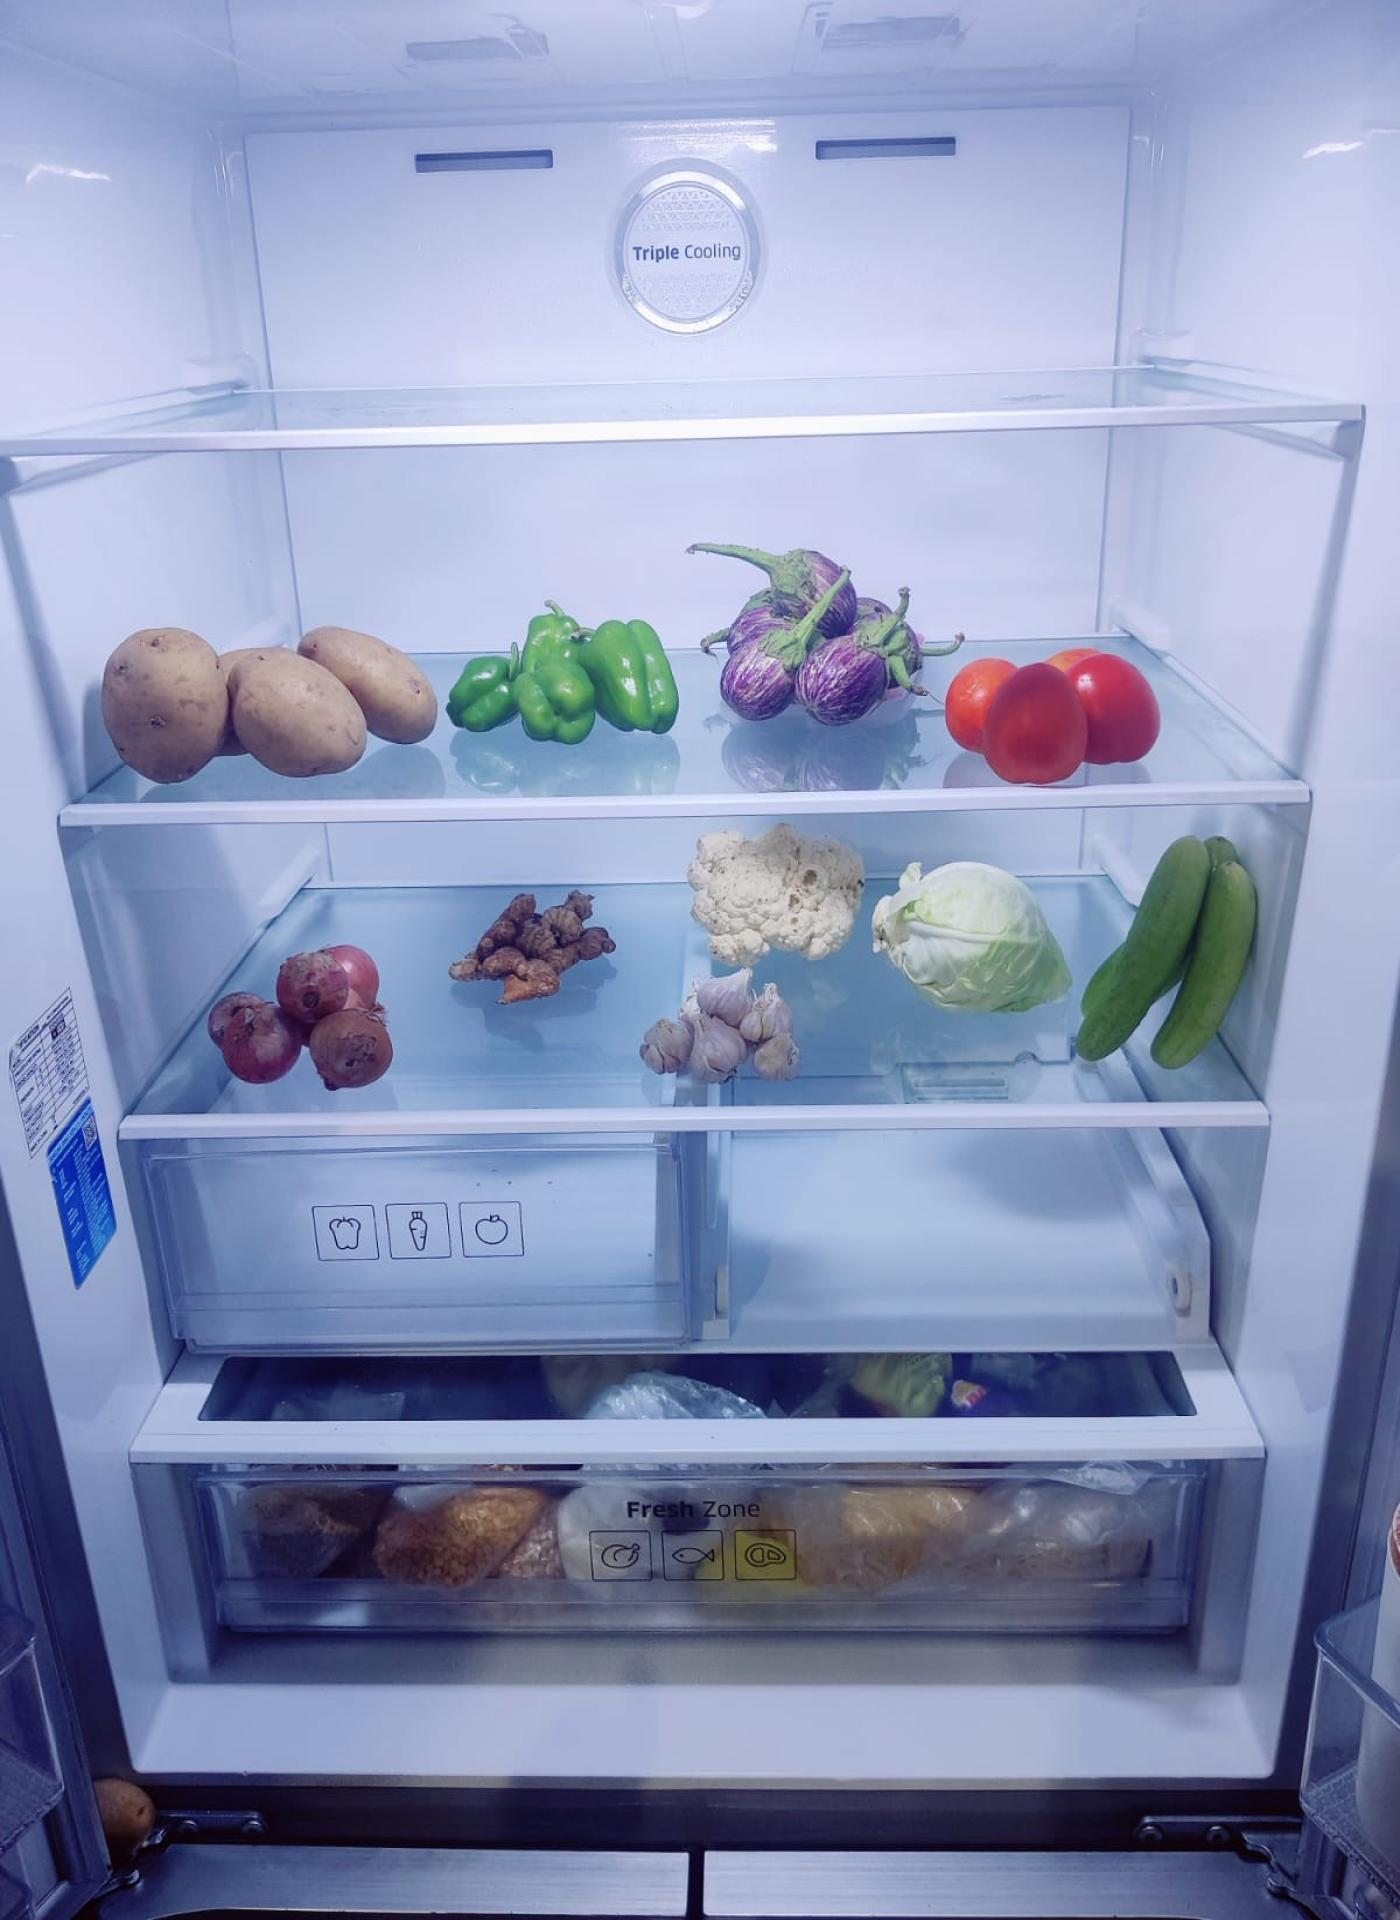brinjal: (701, 541, 927, 723)
cabbage: (874, 860, 1071, 1018)
capsicum: (446, 611, 678, 745)
cauliflower: (692, 826, 869, 966)
cucumber: (1072, 821, 1260, 1076)
garlic: (640, 982, 798, 1081)
ginger: (450, 890, 616, 1006)
onion: (215, 944, 401, 1093)
potato: (91, 611, 437, 775)
tomato: (944, 642, 1161, 780)
